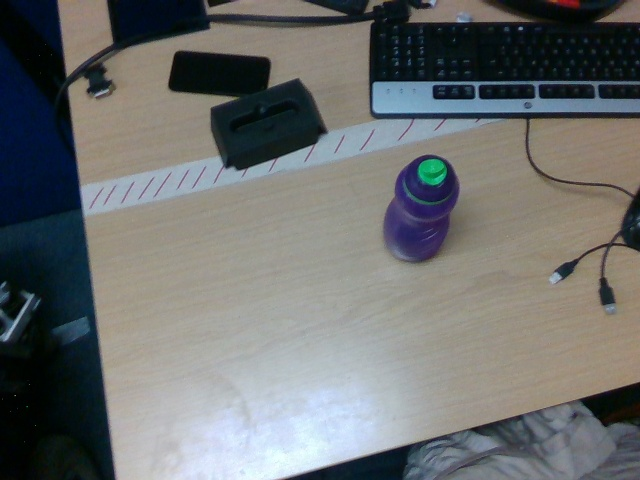book: (384, 155, 460, 262)
